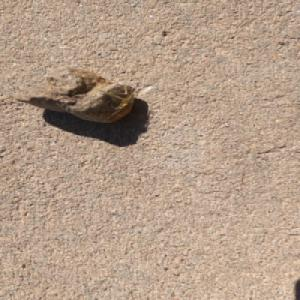Rock: (13, 64, 138, 124)
